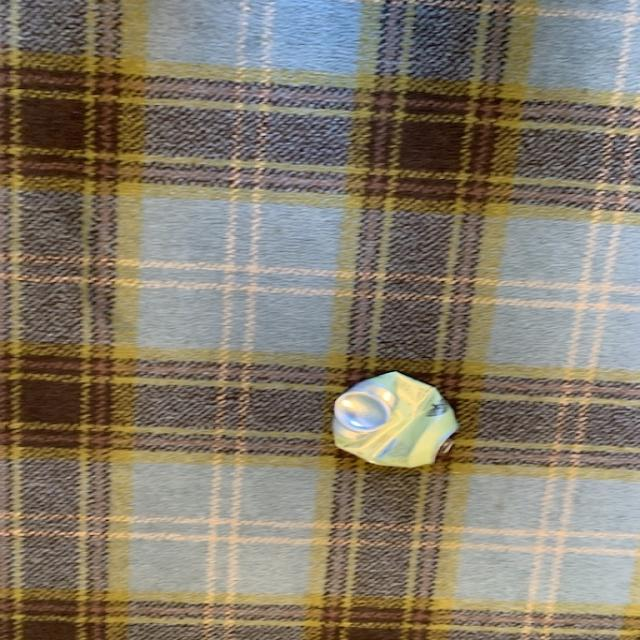litter: (330, 372, 466, 472)
